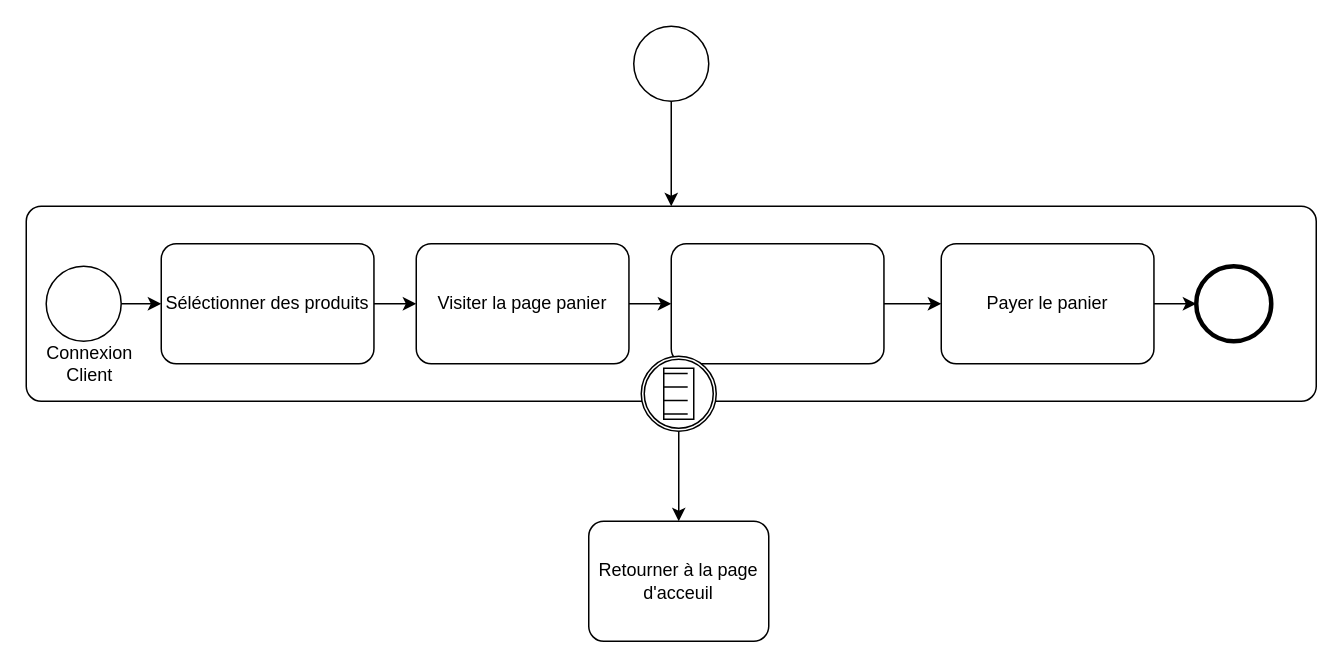
This 1343x668 diagram has some shape labels left out. The box of each missing label's shape, as (x1, y1, x2, y2) in pixels:
Paiment du produit: (25, 205, 1316, 401)
Visiter la page Valider panier: (670, 242, 884, 364)
